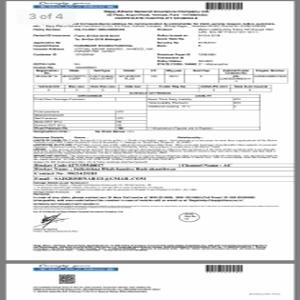table: (30, 91, 262, 130), (30, 64, 289, 87)
text: (30, 22, 278, 66), (32, 136, 281, 168), (103, 7, 210, 21)
